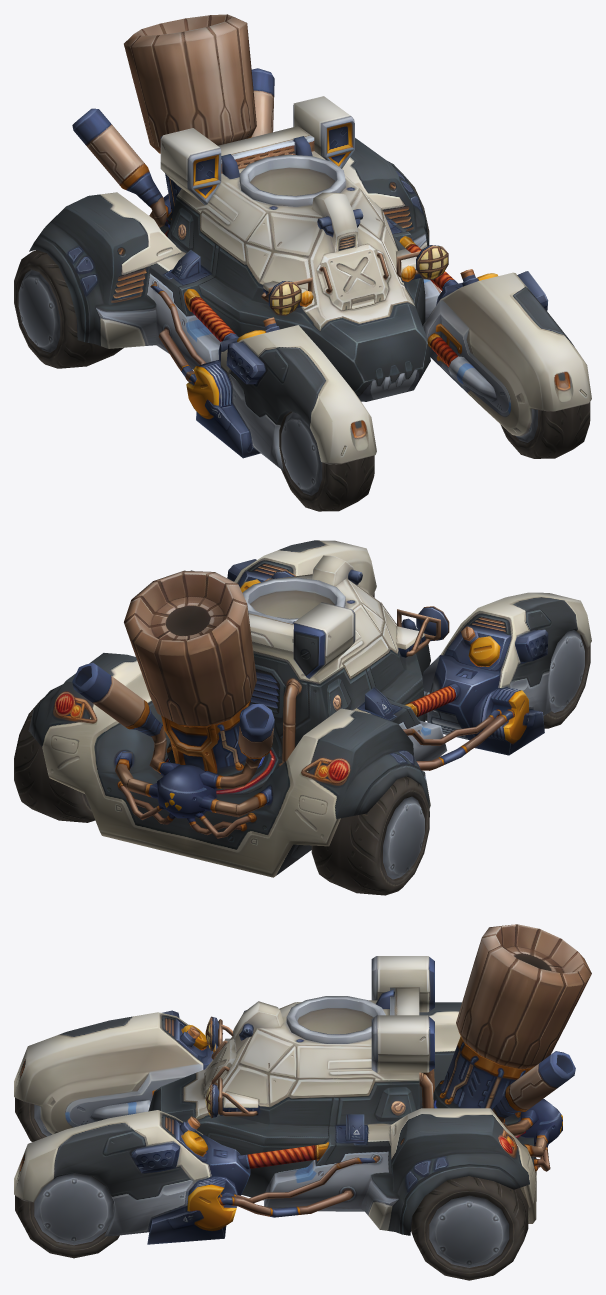
Rendered from cartooncar.fbx.
3 views of the same model, one above another, from view 1: azimuth 30°, elevation 25°; view 2: azimuth 150°, elevation 25°; view 3: azimuth 270°, elevation 25° (orthographic). The views are drawn at different scales.
Parts seen in each view (by area): view 1: model_27, model_27.003, model_27.004, model_27.001; view 2: model_27, model_27.003, model_27.002, model_27.004; view 3: model_27, model_27.002, model_27.001, model_27.004.
Part boxes in pixels (bbox=[...]): model_27: bbox=[29, 14, 591, 470]; model_27.003: bbox=[14, 250, 123, 368]; model_27.004: bbox=[279, 411, 374, 511]; model_27.001: bbox=[500, 402, 590, 458]; model_27: bbox=[28, 540, 591, 877]; model_27.003: bbox=[311, 776, 429, 895]; model_27.002: bbox=[14, 698, 95, 822]; model_27.004: bbox=[543, 630, 590, 728]; model_27: bbox=[14, 924, 591, 1244]; model_27.002: bbox=[411, 1176, 528, 1280]; model_27.001: bbox=[15, 1173, 119, 1258]; model_27.004: bbox=[15, 1097, 52, 1141].
Bounding box in the file's own units: 302 × 222 × 431.
1 material, 1 textured.
